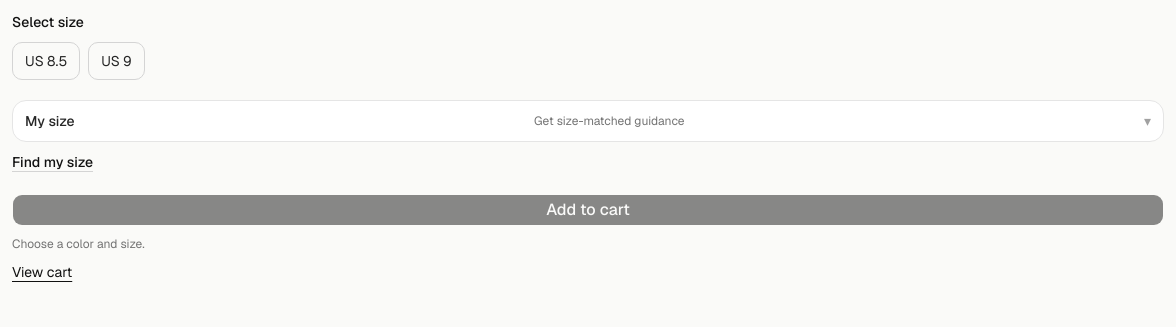
it: ProductActions 由 Python 变体驱动选择 › Python 单色时隐藏色卡且不受展示颜色数量影响：daily-drift
Expected: the radio button labelled "US 8.5" is not checked, left=12, top=42, right=80, bottom=80
Click the radio button labelled "US 9" at (116, 61), box left=88, top=42, right=144, bottom=80
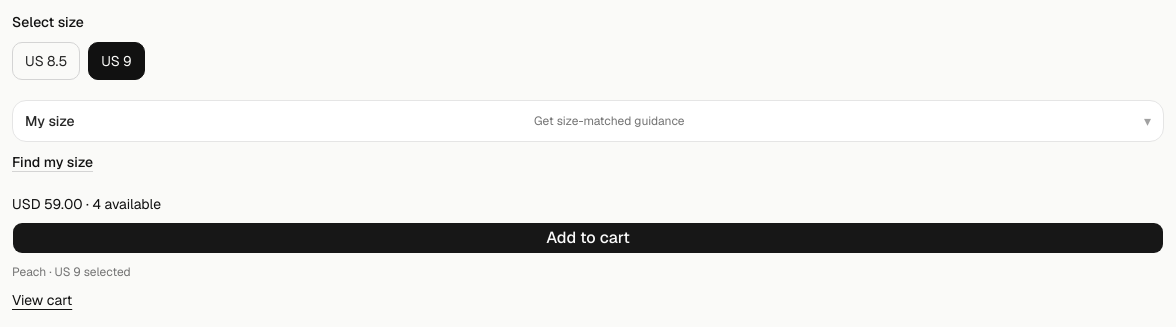
Expected: the message shows "Peach", left=12, top=264, right=131, bottom=280
Click the button "Add to cart" at (588, 238), box left=12, top=222, right=1164, bottom=254
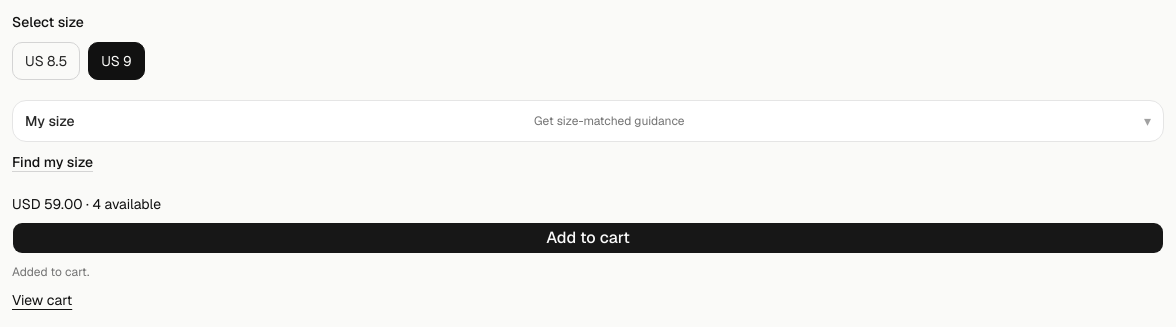
Expected: the text "Added to cart." is shown, left=12, top=264, right=90, bottom=280
